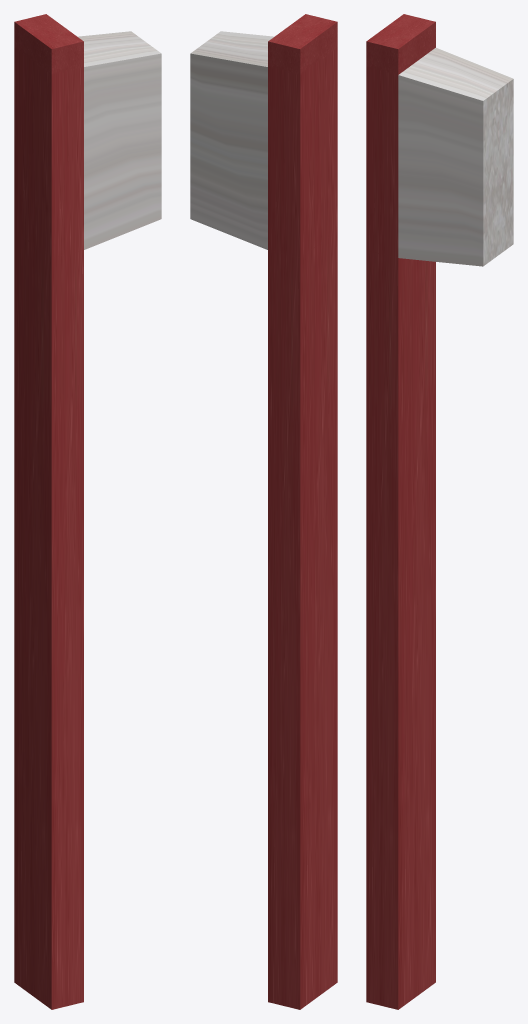
Rendered from toothbrush1.FBX.
3 renders of one model, left to right at view 1: azimuth 30°, elevation 25°; view 2: azimuth 150°, elevation 25°; view 3: azimuth 330°, elevation 25°, orthographic.
Parts seen in each view (by area): view 1: Box001, Object001; view 2: Box001, Object001; view 3: Box001, Object001.
Part boxes in pixels (x1,y1,x2,y2): Box001: [14, 14, 83, 1009]; Object001: [78, 31, 161, 249]; Box001: [268, 14, 337, 1009]; Object001: [190, 31, 273, 249]; Box001: [366, 14, 435, 1009]; Object001: [398, 48, 513, 266].
Bounding box in the file's own units: 9.55 × 77.38 × 5.47.
2 materials, 2 textured.
